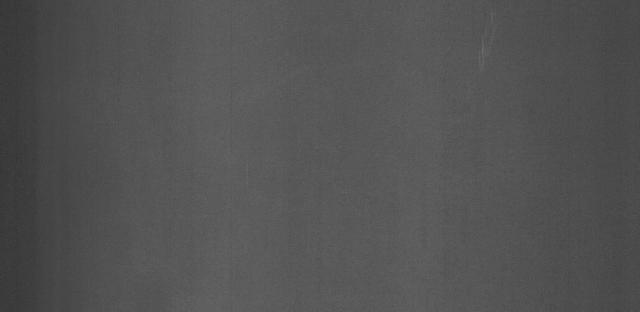silk_spot: (461, 10, 520, 74)
